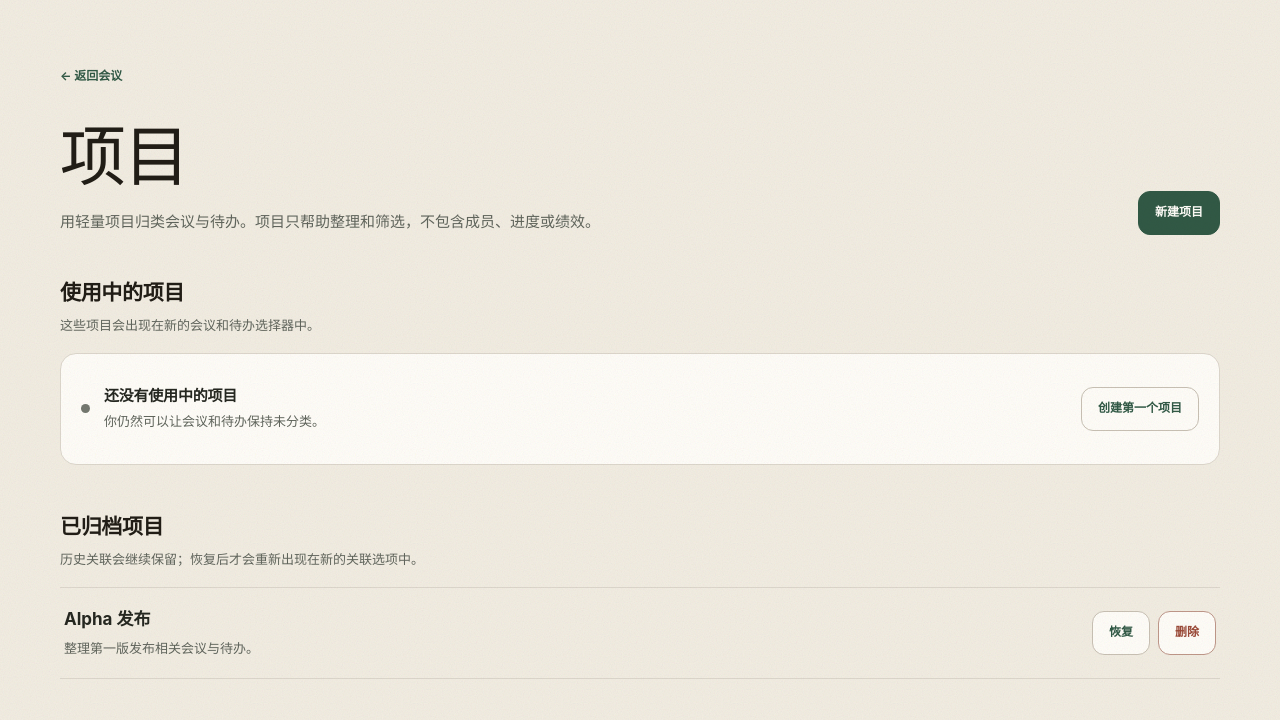
Work Review Project UI › keeps the project visible after a failed delete and allows a fresh reload
Click the button "删除". click: (1187, 633)
box: [1158,611,1216,655]
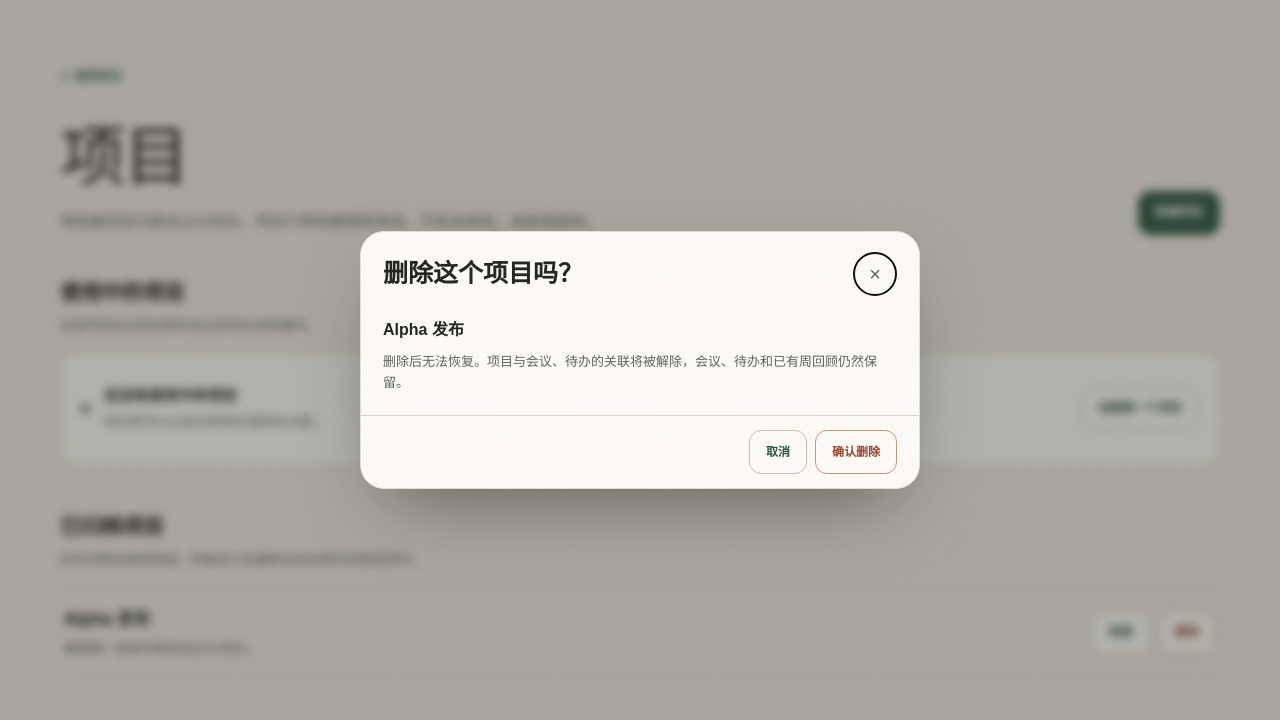
Click the button "确认删除". click: (856, 452)
box: [815,430,897,474]
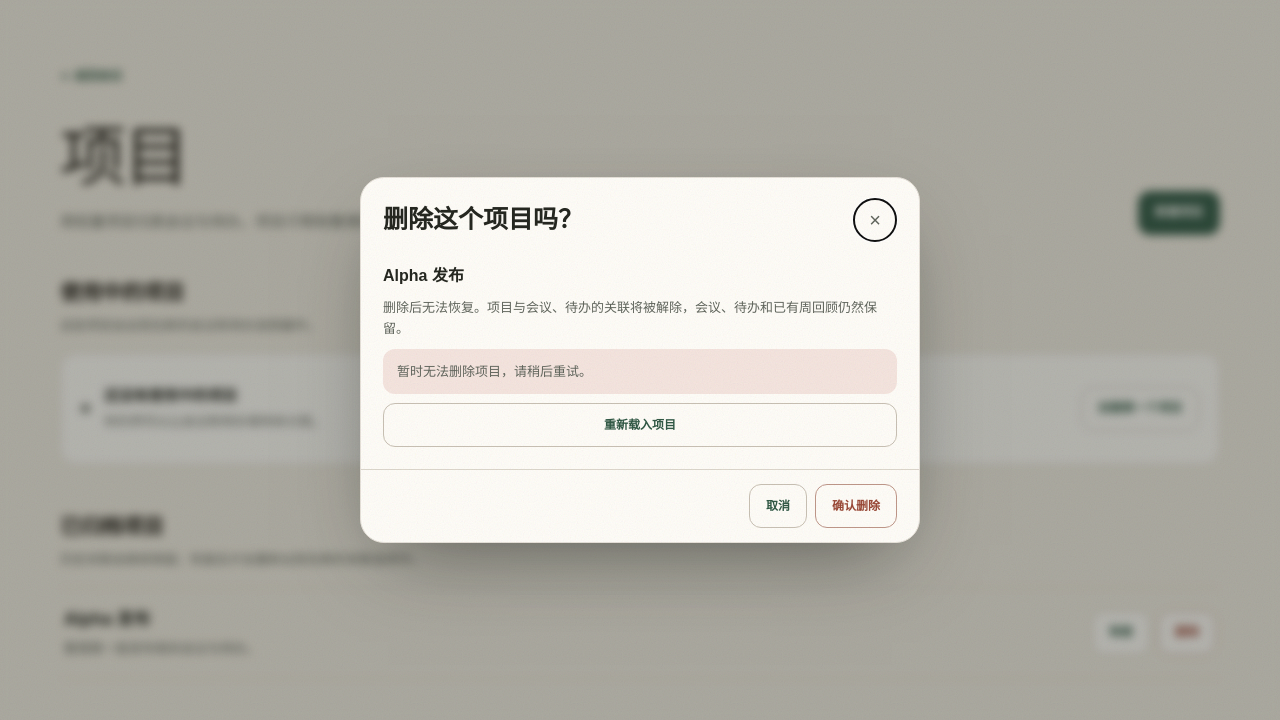
Expected: the heading "Alpha 发布" is shown, [64,609,150,629]
Expected: the message reads "暂时无法删除项目，请稍后重试。", [397,364,592,379]
Click the button "重新载入项目". click: (640, 425)
box: [383,403,897,447]
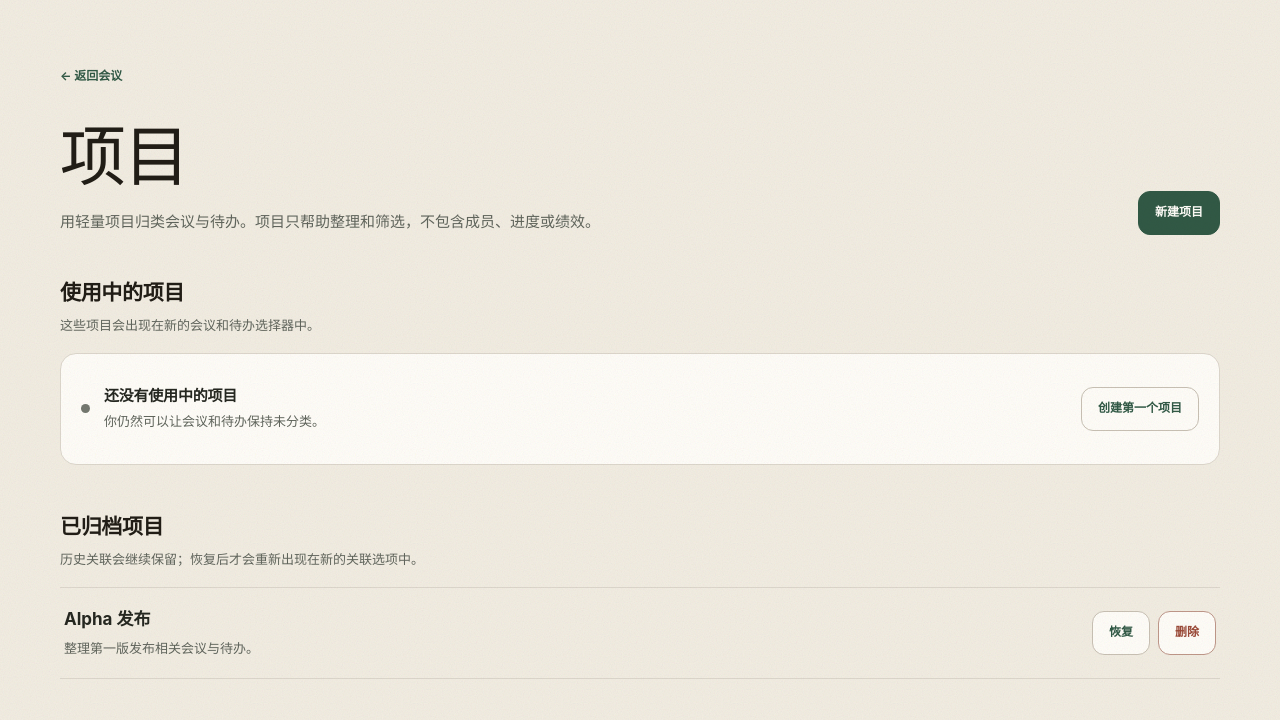
Expected: the dialog is gone
